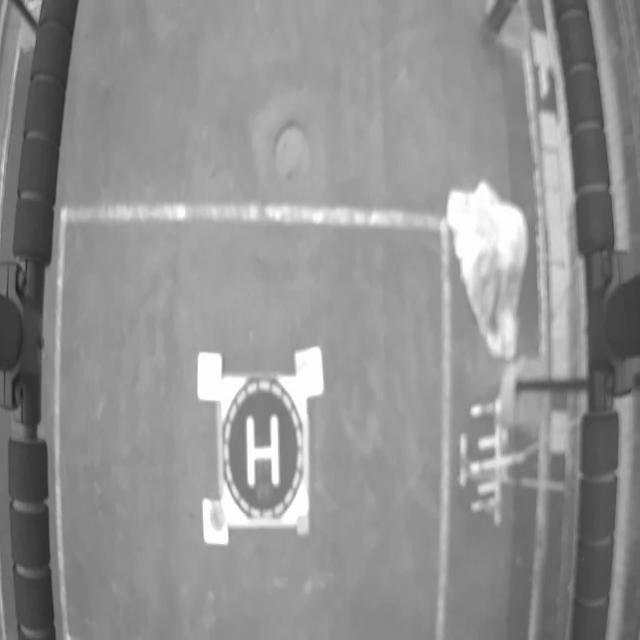Helipad: (247, 416, 279, 488)
